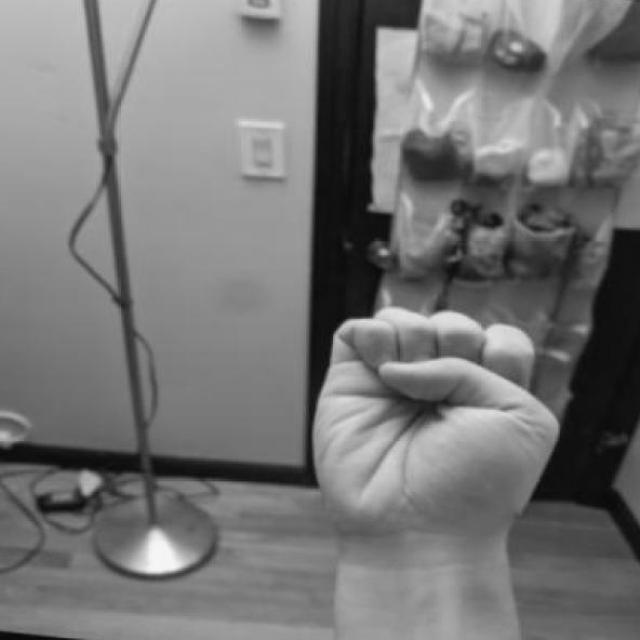E: (299, 282, 570, 610)
